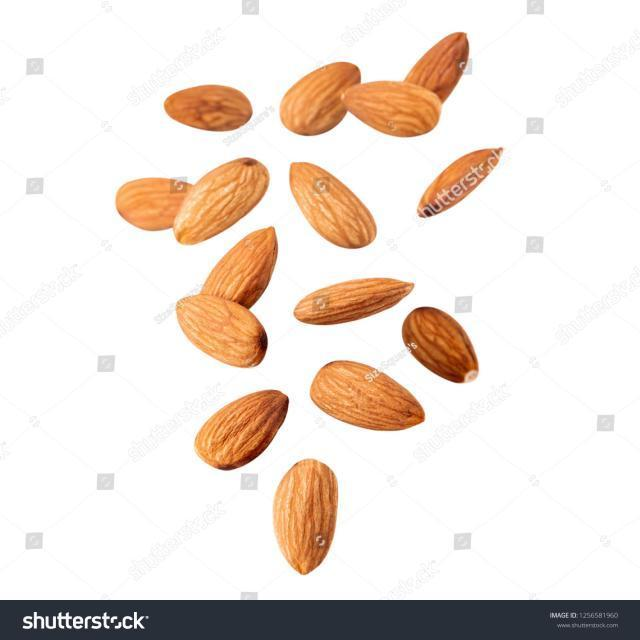almond: (172, 155, 272, 248), (193, 389, 292, 474), (308, 359, 427, 429), (287, 158, 378, 247), (274, 457, 339, 573), (173, 292, 267, 367), (415, 145, 503, 218), (202, 223, 278, 307), (337, 79, 443, 139), (280, 59, 362, 134), (289, 275, 414, 323), (402, 309, 480, 384), (162, 80, 257, 132), (409, 29, 474, 99), (115, 175, 193, 233)
